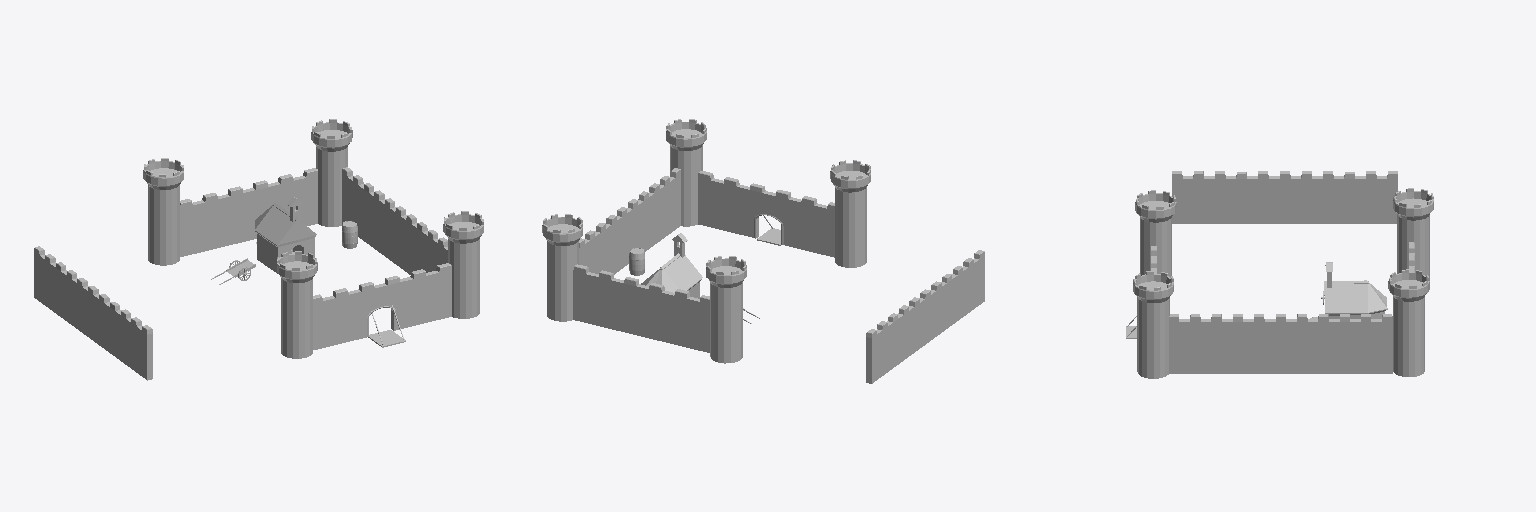
Rendered from Wall.obj.
3 views of the same model, side by side, from view 1: azimuth 30°, elevation 25°; view 2: azimuth 150°, elevation 25°; view 3: azimuth 270°, elevation 25° (orthographic).
Parts seen in each view (by area): view 1: Wall_Cube, LongWall_Cube.001, Wall2_Cube.005, LongWall2_Cube.003, Tower_Cylinder, Tower3_Cylinder.002, Tower2_Cylinder.001, Tower4_Cylinder.003, Plane.001; view 2: Wall2_Cube.005, Wall_Cube, LongWall_Cube.001, LongWall2_Cube.003, Tower3_Cylinder.002, Tower_Cylinder, Tower4_Cylinder.003, Tower2_Cylinder.001, Plane.001; view 3: LongWall2_Cube.003, LongWall_Cube.001, Tower2_Cylinder.001, Tower4_Cylinder.003, Tower3_Cylinder.002, Tower_Cylinder, Plane.001.
Boxes of the visible parts, <box> form: Wall_Cube: <box>313,263,451,349</box>; LongWall_Cube.001: <box>34,246,152,380</box>; Wall2_Cube.005: <box>180,168,317,256</box>; LongWall2_Cube.003: <box>342,167,447,274</box>; Tower_Cylinder: <box>277,251,317,358</box>; Tower3_Cylinder.002: <box>143,158,183,265</box>; Tower2_Cylinder.001: <box>443,211,483,318</box>; Tower4_Cylinder.003: <box>311,119,352,226</box>; Plane.001: <box>255,197,316,273</box>; Wall2_Cube.005: <box>573,264,709,352</box>; Wall_Cube: <box>698,171,834,257</box>; LongWall_Cube.001: <box>866,250,984,383</box>; LongWall2_Cube.003: <box>579,168,680,274</box>; Tower3_Cylinder.002: <box>706,256,746,363</box>; Tower_Cylinder: <box>830,160,870,267</box>; Tower4_Cylinder.003: <box>542,214,582,321</box>; Tower2_Cylinder.001: <box>666,119,706,226</box>; Plane.001: <box>641,233,702,298</box>; LongWall2_Cube.003: <box>1169,314,1392,373</box>; LongWall_Cube.001: <box>1172,171,1397,223</box>; Tower2_Cylinder.001: <box>1133,271,1173,378</box>; Tower4_Cylinder.003: <box>1388,269,1429,376</box>; Tower3_Cylinder.002: <box>1393,188,1433,280</box>; Tower_Cylinder: <box>1135,190,1176,277</box>; Plane.001: <box>1324,262,1387,318</box>.
Bounding box in the file's own units: 16.9 × 4.7 × 13.89.